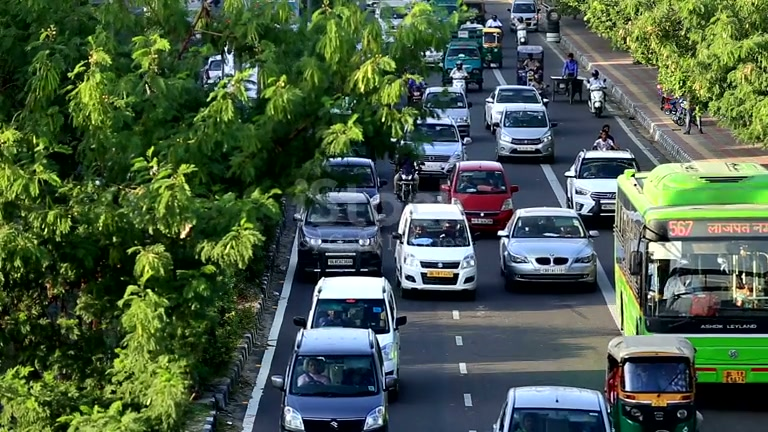bus: (611, 158, 768, 389)
car: (295, 276, 407, 398), (278, 325, 391, 431), (603, 334, 703, 432), (391, 202, 479, 300), (497, 207, 599, 291), (296, 191, 384, 281), (562, 149, 639, 227), (440, 160, 520, 235), (492, 386, 616, 432), (394, 119, 465, 188), (495, 105, 560, 163), (483, 85, 547, 134), (420, 87, 474, 144), (441, 40, 485, 90), (510, 0, 539, 30)
motorcycle: (393, 158, 419, 202), (588, 90, 607, 117)
pedestrian: (587, 68, 608, 116), (298, 357, 331, 387), (449, 61, 469, 98), (593, 124, 618, 151), (562, 52, 579, 84)
truck: (603, 334, 702, 431), (295, 191, 383, 281)
